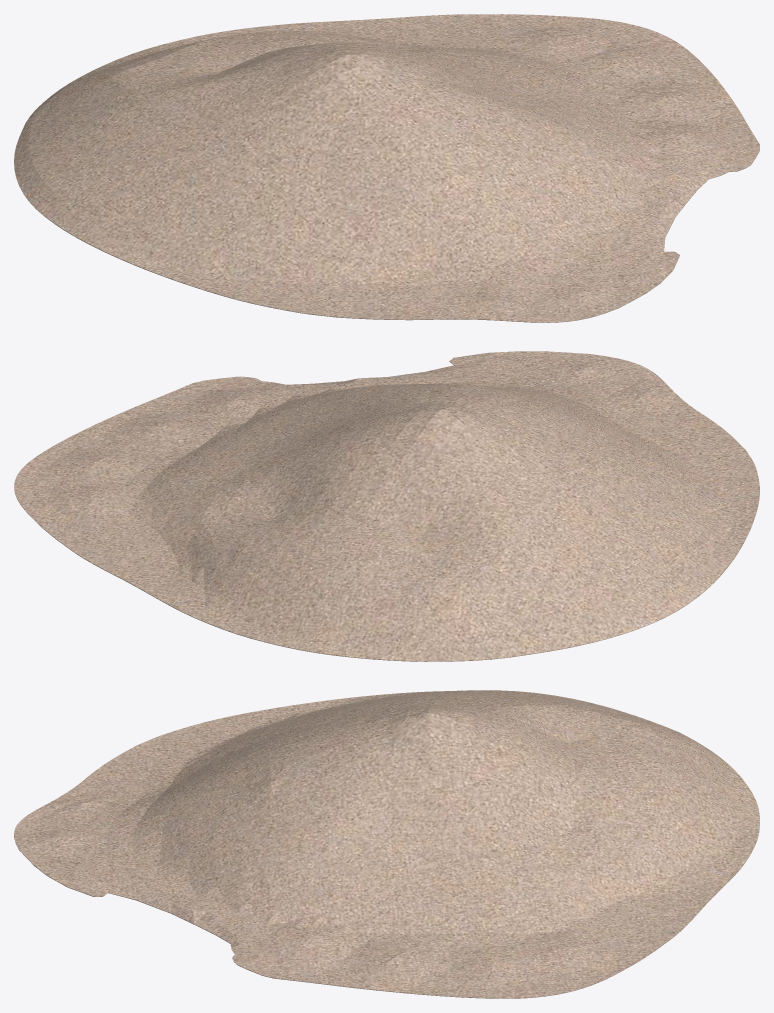
Rendered from sweethome3d-scopia-sand-heap.glb.
3 renders of one model, top to bottom at view 1: azimuth 30°, elevation 25°; view 2: azimuth 150°, elevation 25°; view 3: azimuth 270°, elevation 25°, orthographic. The views are drawn at different scales.
Visible parts, largest first — view 1: sable_Plane; view 2: sable_Plane; view 3: sable_Plane.
Part boxes in pixels (box(x1,y1,x2,y2)): sable_Plane: box(14, 14, 759, 322); sable_Plane: box(14, 351, 759, 661); sable_Plane: box(14, 690, 759, 998).
Size of the model in its own units: 95.08 by 15.71 by 97.51.
1 material, 1 textured.
